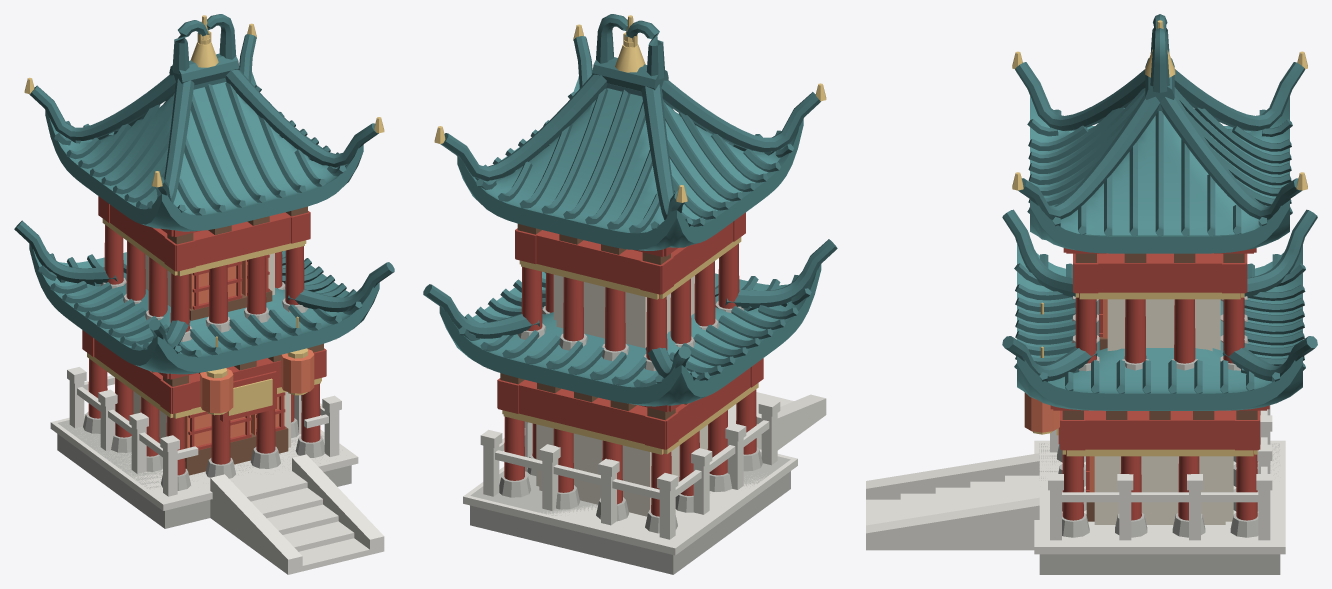
The model's file is SonMon_tower.fbx.
The picture shows the model from 3 angles, left to right: view 1: azimuth 30°, elevation 25°; view 2: azimuth 150°, elevation 25°; view 3: azimuth 270°, elevation 25°; orthographic projection. The views are drawn at different scales.
Visible parts, largest first — view 1: tower; view 2: tower; view 3: tower.
Part boxes in pixels (x1=…): tower: x1=14, y1=14, x2=394, y2=574; tower: x1=423, y1=14, x2=837, y2=574; tower: x1=866, y1=14, x2=1317, y2=574.
Bounding box in the file's own units: 2.36 × 4.15 × 3.38.
